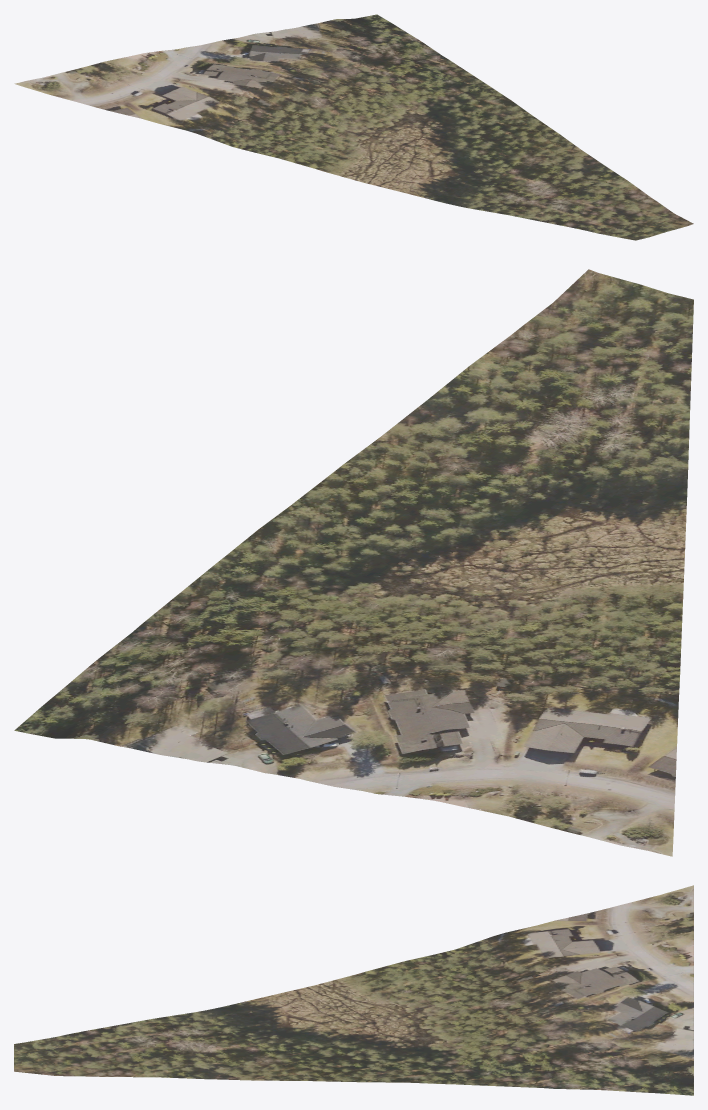
File: CM_Terrain_24490254_6816927.fbx
The picture shows the model from 3 angles, top to bottom: view 1: azimuth 30°, elevation 25°; view 2: azimuth 150°, elevation 25°; view 3: azimuth 270°, elevation 25°; orthographic projection. The views are drawn at different scales.
Visible parts, largest first — view 1: CM_Terrain_24490254_6816927_LOD0; view 2: CM_Terrain_24490254_6816927_LOD0; view 3: CM_Terrain_24490254_6816927_LOD0.
Boxes of the visible parts, x1=… form: CM_Terrain_24490254_6816927_LOD0: x1=14, y1=14, x2=693, y2=240; CM_Terrain_24490254_6816927_LOD0: x1=14, y1=269, x2=693, y2=856; CM_Terrain_24490254_6816927_LOD0: x1=14, y1=885, x2=693, y2=1095.
Size of what is drawn, in the model's own units: 135 by 8.01 by 205.
